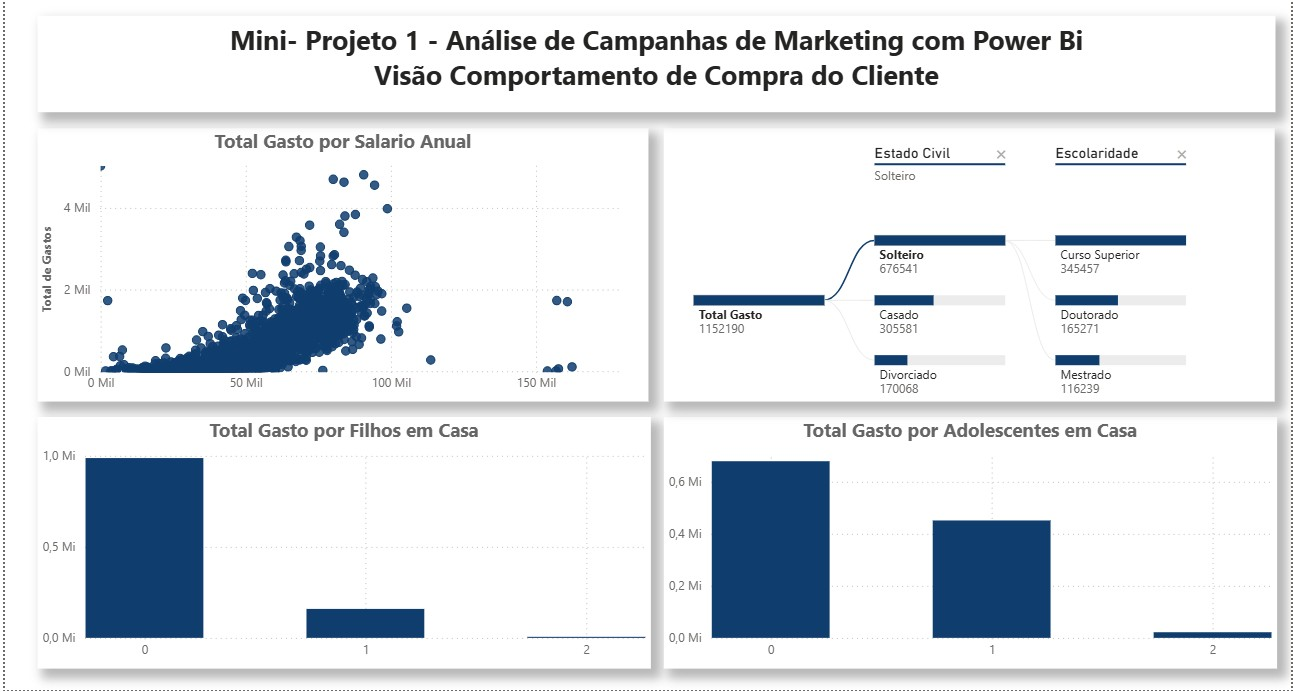

Layout of this report page (visuals, bound fields, positions):
{"tool":"powerbi","page":{"name":"Visão Comportamento","canvas":[1280,720],"ordinal":1},"visuals":[{"type":"scatterChart","fields":{"X":["Dados Marketing.Salario Anual"],"Y":["Dados Marketing.Total Gasto"]},"box":[32,160,608,272],"z":0},{"type":"clusteredColumnChart","fields":{"Y":["Dados Marketing.Total Gasto"],"Category":["Dados Marketing.Filhos em Casa"]},"box":[32,448,610,250],"z":1000},{"type":"clusteredColumnChart","fields":{"Y":["Dados Marketing.Total Gasto"],"Category":["Dados Marketing.Adolescentes em Casa"]},"box":[656,448,610,250],"z":2000},{"type":"decompositionTreeVisual","fields":{"Analyze":["Dados Marketing.Total Gasto"],"ExplainBy":["Dados Marketing.Estado Civil","Dados Marketing.Escolaridade"]},"box":[656,160,608,272],"z":3000},{"type":"textbox","box":[32,48,1232,96],"z":4000}]}

Visuals, with their boxes on the page's 1280x720 design canvas (x1, y1, x2, y2). These are canvas units, not pixel positions in the 1293x692 screenshot, which may show the page scaled, cropped or inside an application window:
scatterChart - Dados Marketing.Salario Anual x Dados Marketing.Total Gasto: rect(32, 160, 640, 432)
clusteredColumnChart - Dados Marketing.Total Gasto x Dados Marketing.Filhos em Casa: rect(32, 448, 642, 698)
clusteredColumnChart - Dados Marketing.Total Gasto x Dados Marketing.Adolescentes em Casa: rect(656, 448, 1266, 698)
decompositionTreeVisual - Dados Marketing.Total Gasto x Dados Marketing.Estado Civil: rect(656, 160, 1264, 432)
textbox: rect(32, 48, 1264, 144)
